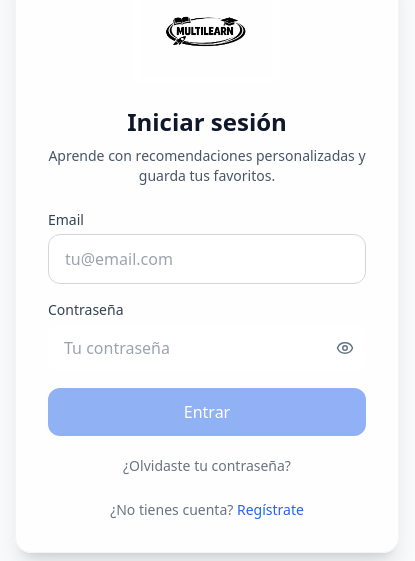
Test: Login submission › shows backend message when login fails
Type "user@mail.com" into the field labelled "Email" at (207,259), box [48,234,366,284]
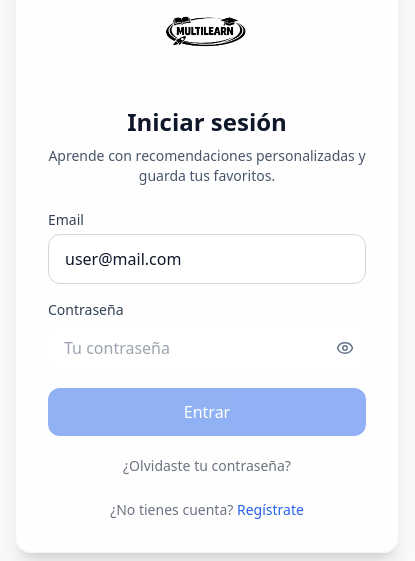
Type "bad-password" into the password field labelled "Contraseña" at (186,348), box [48,324,324,372]
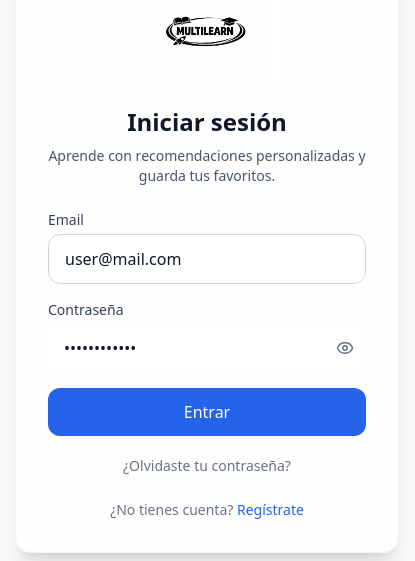
Expected: the button "Entrar" is enabled
Click the button "Entrar" at (207,412), box [48,388,366,436]
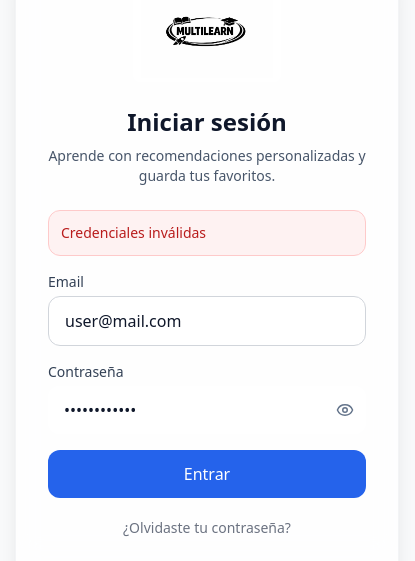
Expected: the text "Credenciales inválidas" is shown, [48,210,366,256]
